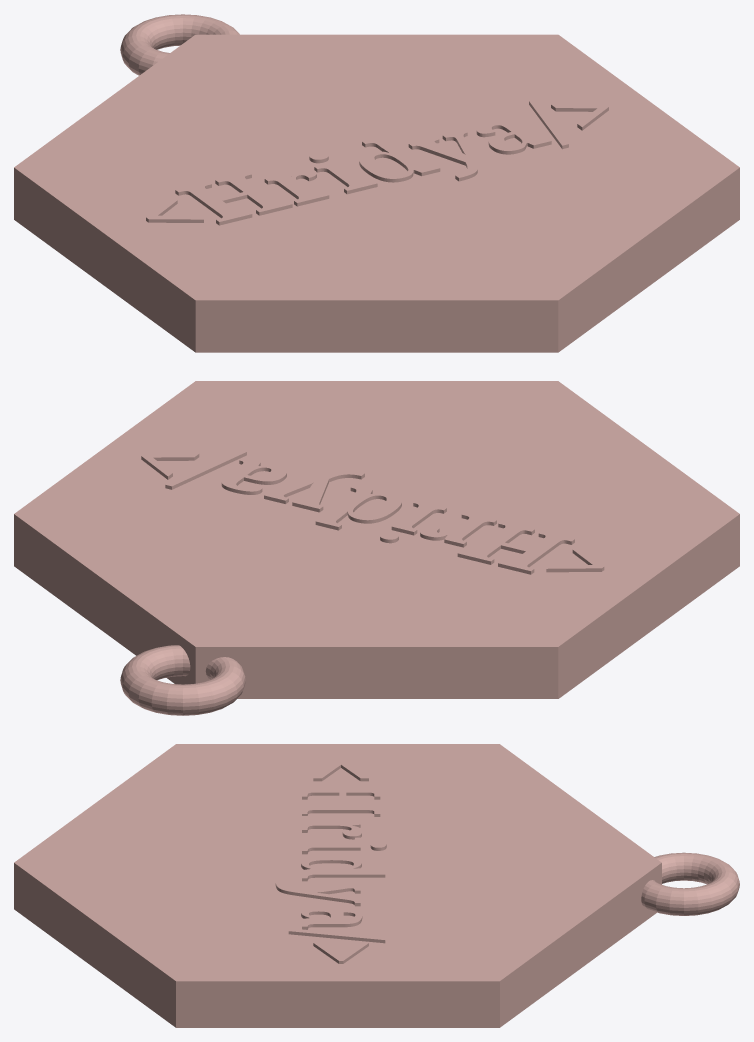
Rendered from Cool Habbi-Wluff.glb.
3 views of the same model, one above another, from view 1: azimuth 30°, elevation 25°; view 2: azimuth 150°, elevation 25°; view 3: azimuth 270°, elevation 25° (orthographic). The views are drawn at different scales.
Visible parts, largest first — view 1: Mesh_Mesh_head_geo.001_lambert2SG.001; view 2: Mesh_Mesh_head_geo.001_lambert2SG.001; view 3: Mesh_Mesh_head_geo.001_lambert2SG.001.
Part boxes in pixels (<box>): Mesh_Mesh_head_geo.001_lambert2SG.001: <box>14,14,739,352</box>; Mesh_Mesh_head_geo.001_lambert2SG.001: <box>14,381,739,715</box>; Mesh_Mesh_head_geo.001_lambert2SG.001: <box>14,744,739,1027</box>.
Bounding box in the file's own units: 26.56 × 2.6 × 34.37.
